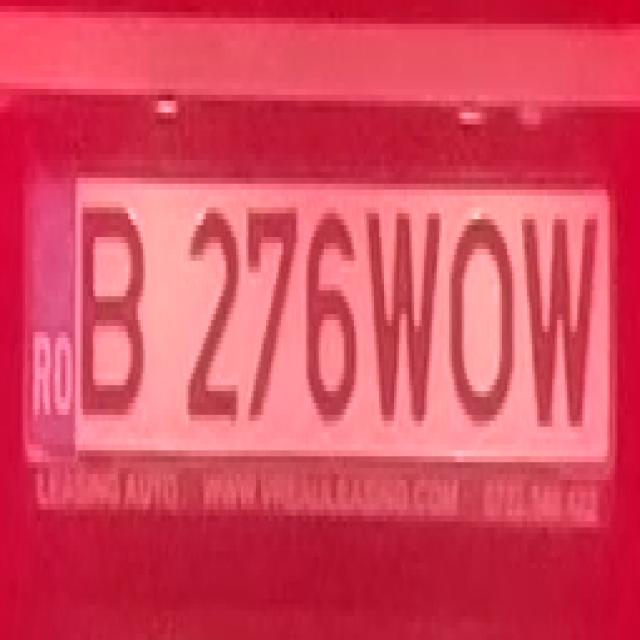EU: (21, 160, 623, 533)
Romanie: (23, 164, 77, 464)
